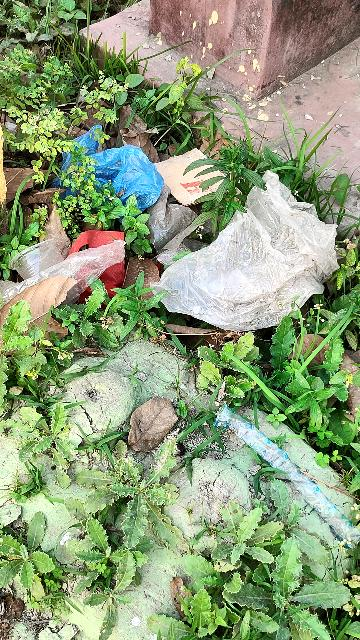polythene: (154, 182, 342, 338)
